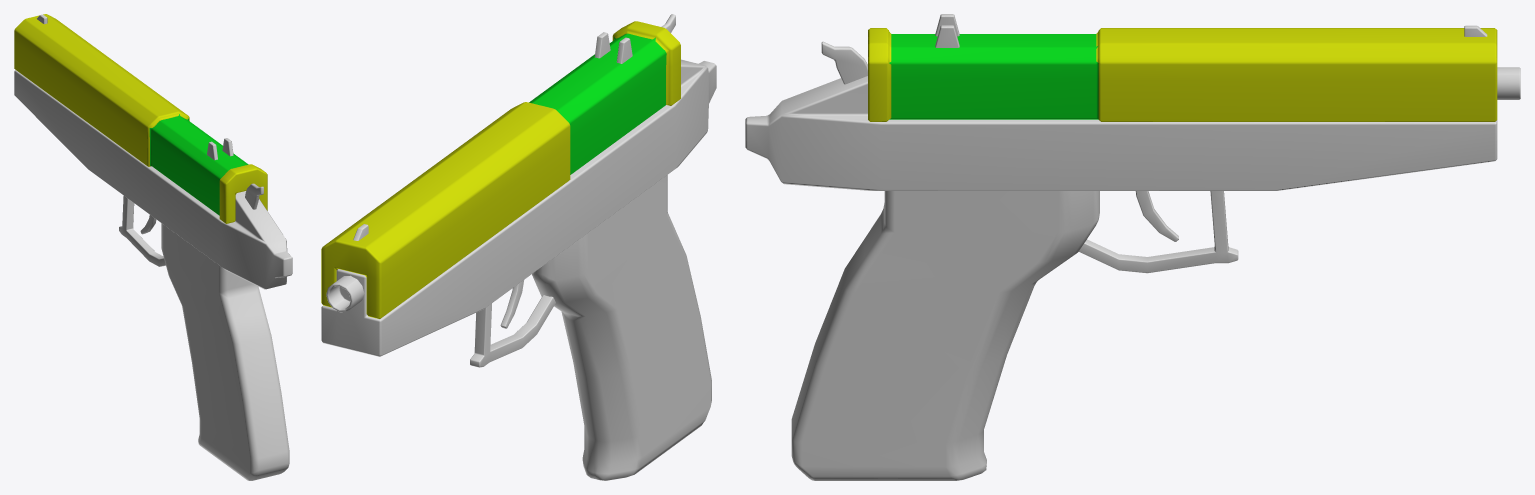
File: CaselessPistol.fbx
The picture shows the model from 3 angles, left to right: view 1: azimuth 30°, elevation 25°; view 2: azimuth 150°, elevation 25°; view 3: azimuth 270°, elevation 25°; orthographic projection. The views are drawn at different scales.
Parts seen in each view (by area): view 1: Cube.001, Cube.005, Cube.004, Cube.007, Cube.006, Cube.010; view 2: Cube.005, Cube.001, Cube.004, Cube.007, Cylinder.002, Cube.010, Cube.008; view 3: Cube.001, Cube.005, Cube.004, Cube.007, Cube.006.
Boxes of the visible parts, x1=… form: Cube.001: x1=161, y1=223, x2=289, y2=480; Cube.005: x1=14, y1=14, x2=267, y2=223; Cube.004: x1=14, y1=70, x2=292, y2=289; Cube.007: x1=119, y1=196, x2=165, y2=266; Cube.006: x1=245, y1=183, x2=263, y2=209; Cube.010: x1=207, y1=138, x2=233, y2=160; Cube.005: x1=321, y1=21, x2=680, y2=318; Cube.001: x1=532, y1=175, x2=711, y2=480; Cube.004: x1=321, y1=59, x2=716, y2=356; Cube.007: x1=470, y1=294, x2=555, y2=367; Cylinder.002: x1=326, y1=275, x2=364, y2=312; Cube.010: x1=594, y1=32, x2=632, y2=63; Cube.008: x1=500, y1=280, x2=523, y2=328; Cube.001: x1=791, y1=191, x2=1099, y2=480; Cube.005: x1=868, y1=28, x2=1497, y2=121; Cube.004: x1=745, y1=76, x2=1497, y2=190; Cube.007: x1=1078, y1=191, x2=1238, y2=273; Cube.006: x1=821, y1=41, x2=867, y2=84.
Bounding box in the file's own units: 2.2 × 15 × 23.4.
